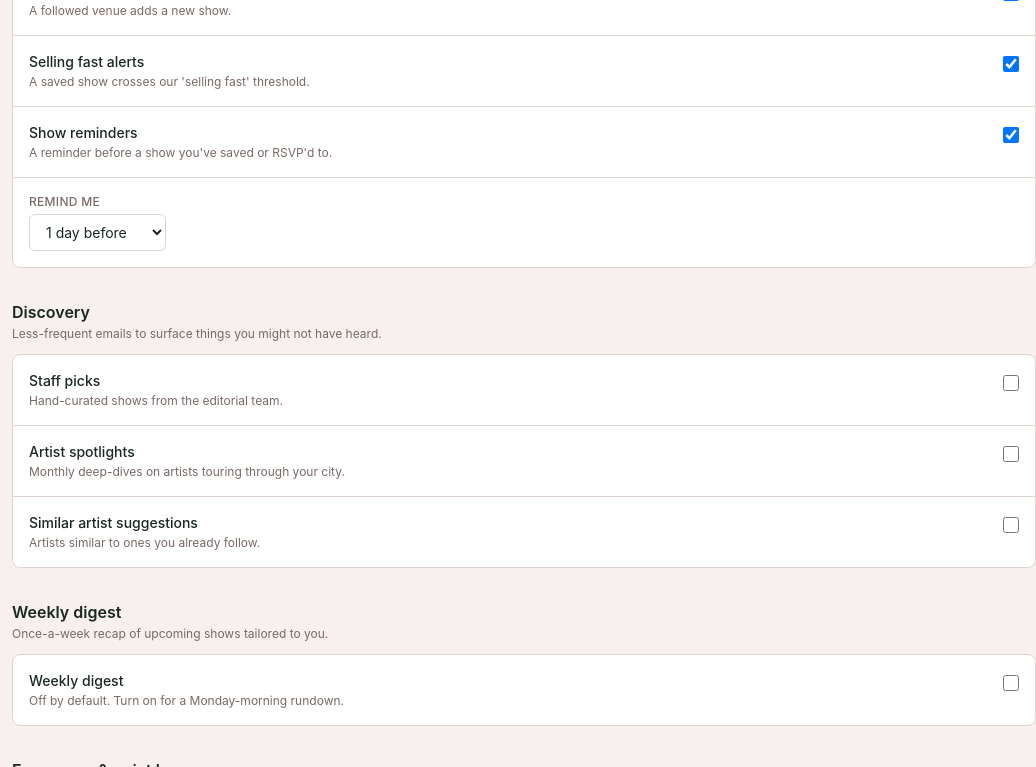
Test case: NotificationPreferencesForm › shows an error banner when the API rejects the patch
(page scrolled)
Click the checkbox labelled "Staff picks Hand-curated shows from the editorial team." at (1011, 383), box [1003,375,1019,391]
(page scrolled)
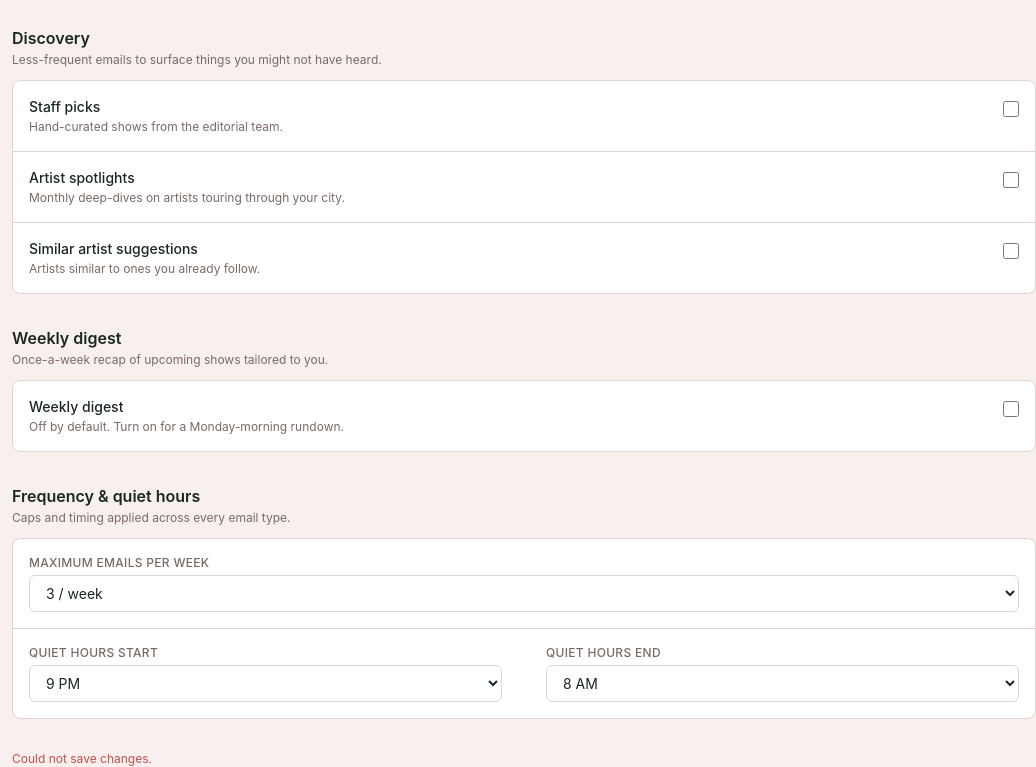
Check: the message "Could not save changes." is shown, box [12,751,152,766]
